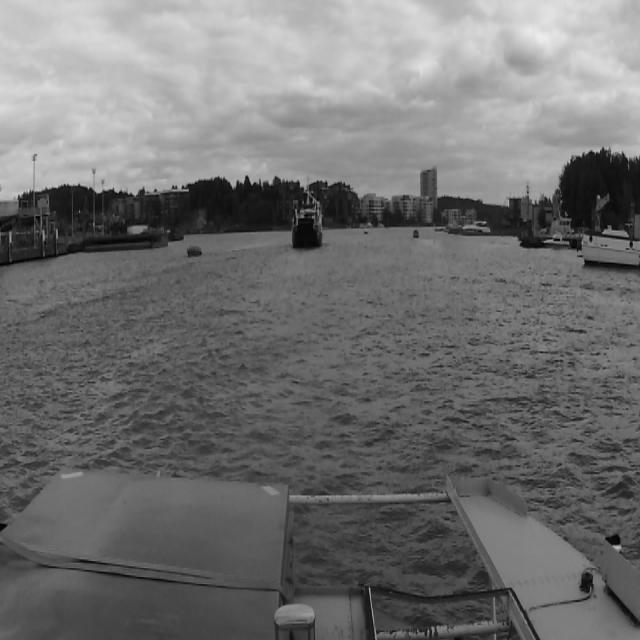ship: (580, 213, 640, 271), (290, 194, 322, 250), (544, 232, 570, 252), (462, 219, 492, 231), (186, 242, 203, 258), (412, 226, 420, 238), (362, 226, 368, 236)
